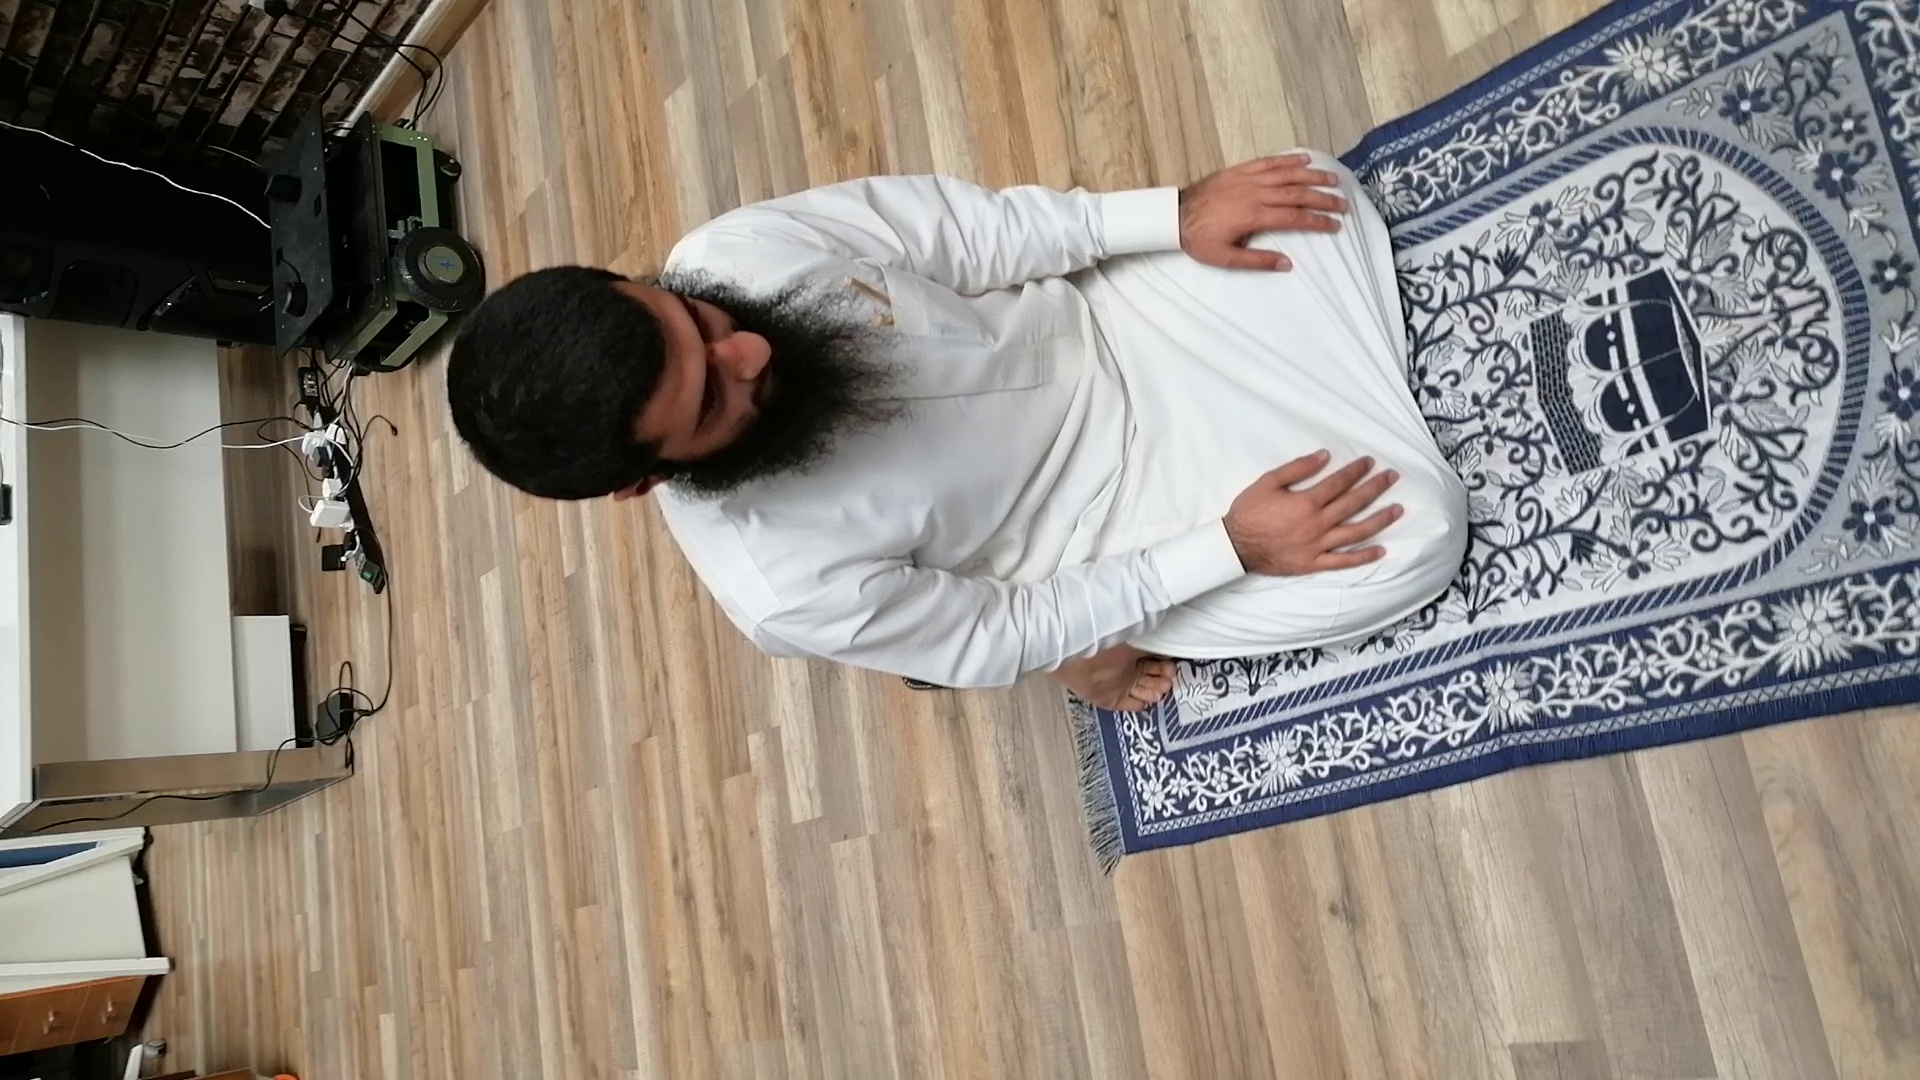sitting: (439, 140, 1490, 746)
